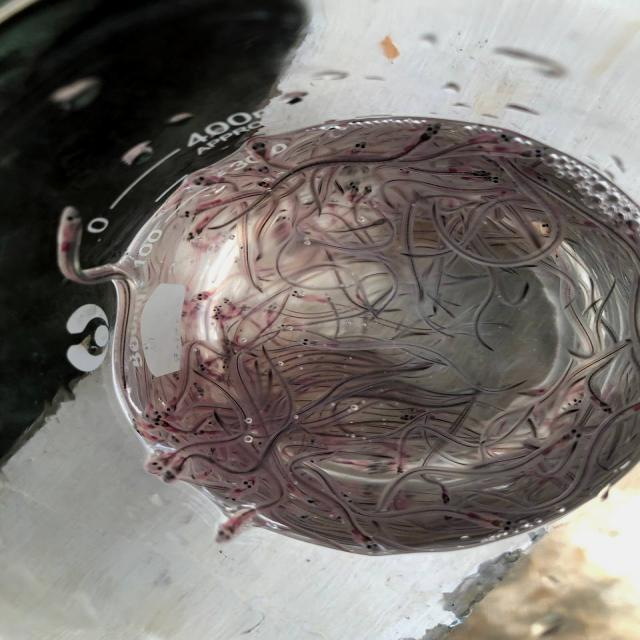glass_eel: (54, 202, 88, 238), (212, 523, 240, 545), (246, 138, 270, 158), (490, 517, 519, 533), (358, 536, 383, 554), (420, 122, 444, 140), (519, 148, 549, 162), (564, 426, 586, 444), (190, 288, 212, 304), (146, 459, 168, 475), (180, 205, 200, 222), (296, 336, 322, 349), (188, 175, 216, 187), (473, 164, 494, 180), (598, 401, 617, 418), (489, 132, 514, 144), (482, 175, 506, 187), (254, 162, 276, 175), (161, 468, 180, 483), (184, 228, 204, 242), (348, 140, 368, 154), (239, 478, 260, 490), (240, 162, 254, 178), (360, 182, 376, 196), (289, 287, 305, 301), (254, 178, 272, 190), (346, 182, 364, 194), (302, 496, 320, 508), (224, 489, 239, 503), (540, 219, 554, 233), (439, 494, 453, 508), (142, 407, 156, 421), (390, 464, 406, 476), (397, 412, 416, 422), (276, 322, 294, 332), (572, 392, 584, 406), (222, 295, 236, 307), (164, 402, 178, 414), (154, 408, 168, 420), (169, 434, 183, 446), (152, 418, 168, 428), (192, 428, 207, 438), (211, 313, 229, 321), (195, 387, 208, 398), (170, 370, 182, 381), (255, 436, 266, 448), (196, 364, 210, 372), (221, 363, 232, 373), (210, 307, 224, 314), (300, 514, 310, 522)
